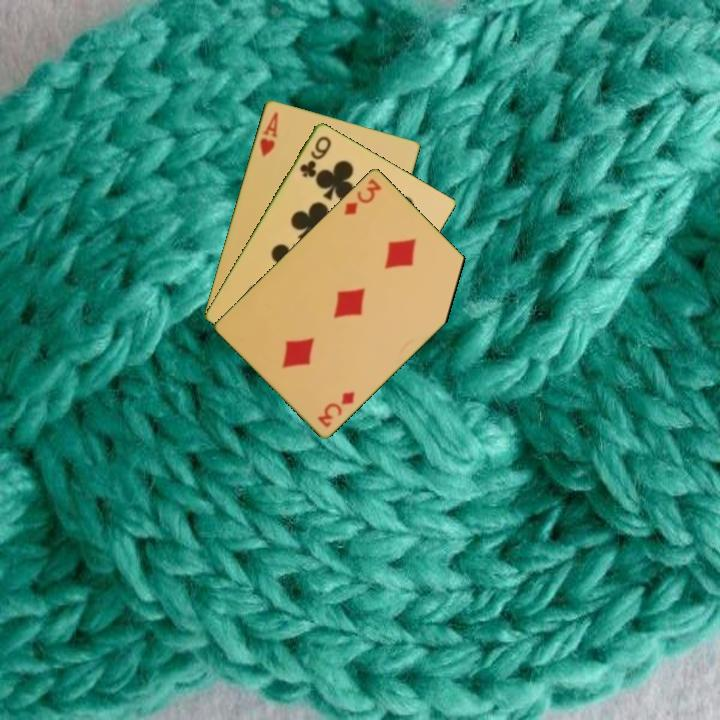3d: (340, 174, 384, 218), (314, 387, 358, 430)
9c: (296, 132, 334, 180)
Ah: (256, 108, 281, 160)
